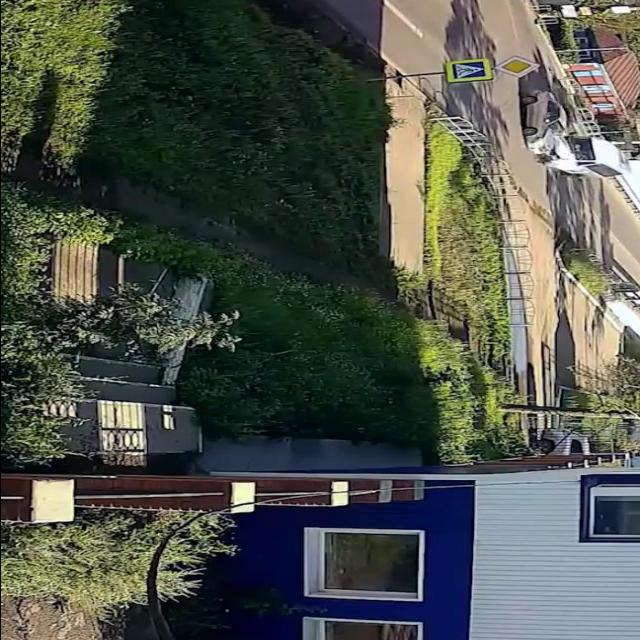accident: (516, 83, 636, 185)
